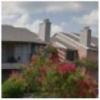chimneys: (39, 18, 52, 44), (80, 25, 93, 50)
